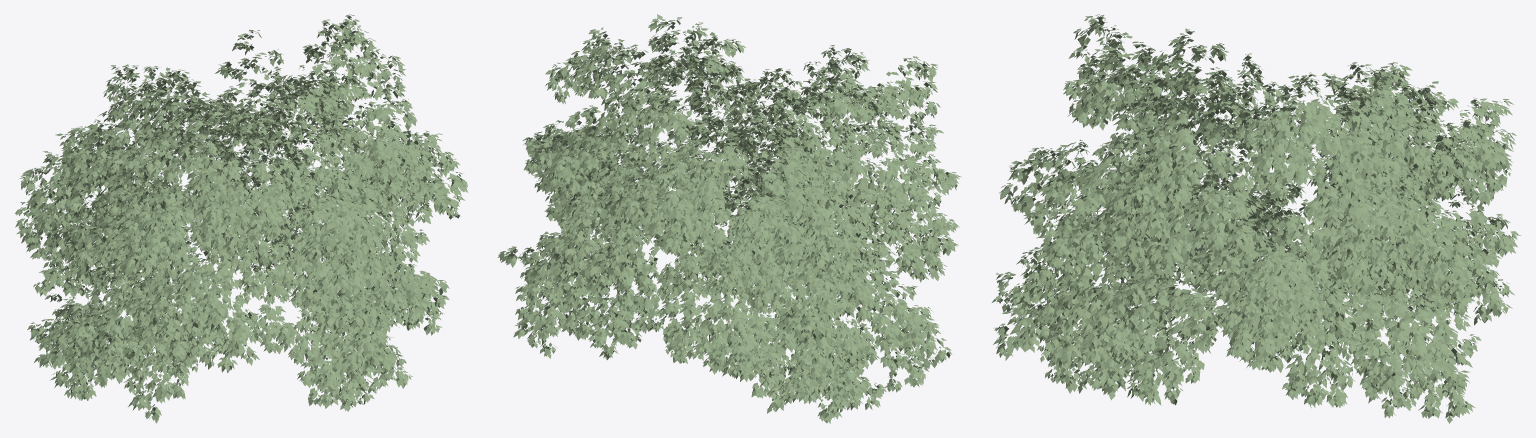
The model's file is lujiazui-32.glb.
The picture shows the model from 3 angles, left to right: view 1: azimuth 30°, elevation 25°; view 2: azimuth 150°, elevation 25°; view 3: azimuth 270°, elevation 25°; orthographic projection. The views are drawn at different scales.
Parts seen in each view (by area): view 1: source_4857_leaf_summer_1_part0; view 2: source_4857_leaf_summer_1_part0; view 3: source_4857_leaf_summer_1_part0.
Part boxes in pixels (box(x1,y1,x2,y2)): source_4857_leaf_summer_1_part0: box(15, 14, 468, 423); source_4857_leaf_summer_1_part0: box(497, 14, 961, 423); source_4857_leaf_summer_1_part0: box(992, 14, 1521, 423).
Size of the model in its own units: 8.22 by 6.32 by 7.81.
